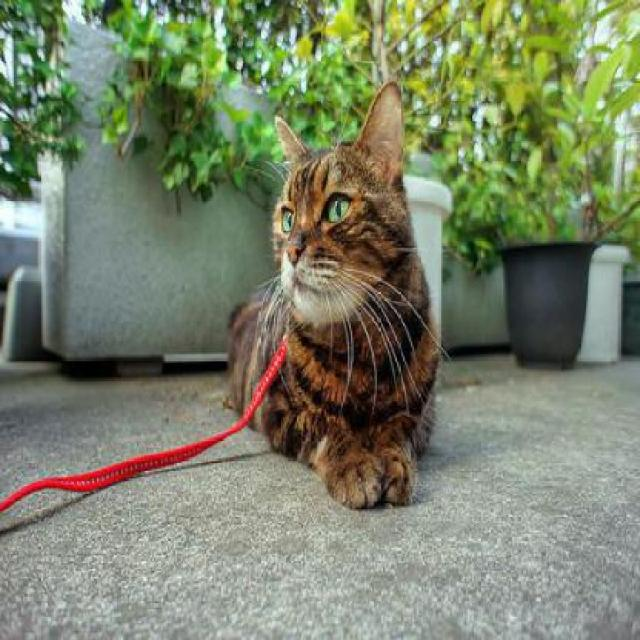cat: (225, 82, 440, 512)
